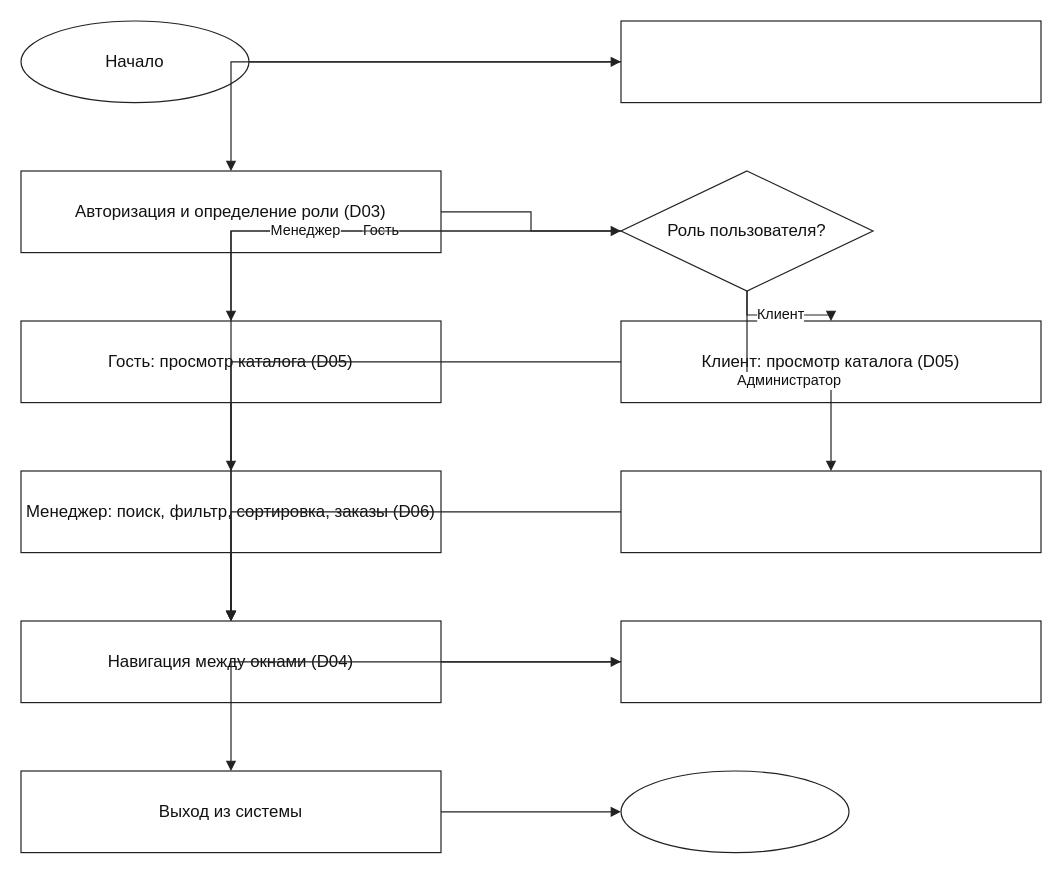
The diagram is 1062 pixels wide and 874 high, and some of its shapes have lost their labels. The box of each missing label's shape, as (x1, y1, x2, y2) in pixels:
Администратор: управление товарами и заказами (D07–D10): (620, 470, 1041, 553)
Запуск приложения и подключение к БД (D02): (620, 20, 1041, 103)
Конец: (620, 770, 849, 853)
Обработка ошибок и сообщений (D11): (620, 620, 1041, 703)
